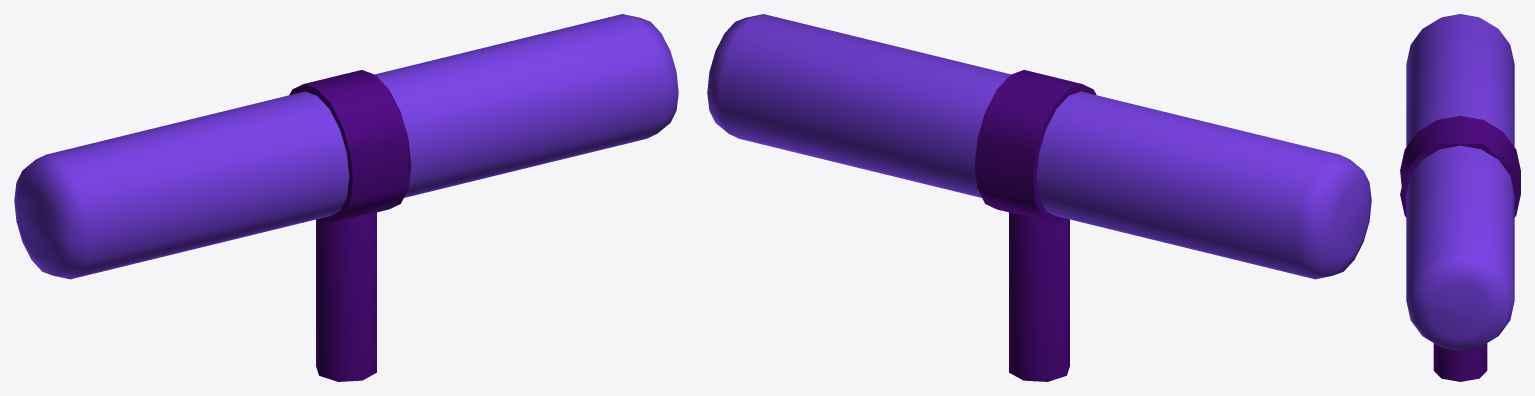
File: rotation_violet.fbx
The picture shows the model from 3 angles, left to right: view 1: azimuth 30°, elevation 25°; view 2: azimuth 150°, elevation 25°; view 3: azimuth 270°, elevation 25°; orthographic projection. The views are drawn at different scales.
Visible parts, largest first — view 1: rotation_violet; view 2: rotation_violet; view 3: rotation_violet.
Part boxes in pixels (box(x1,y1,x2,y2)): rotation_violet: box(14, 14, 678, 381); rotation_violet: box(707, 14, 1371, 381); rotation_violet: box(1400, 14, 1520, 381).
Size of the model in its own units: 0.6028 by 0.2659 by 0.1199.
